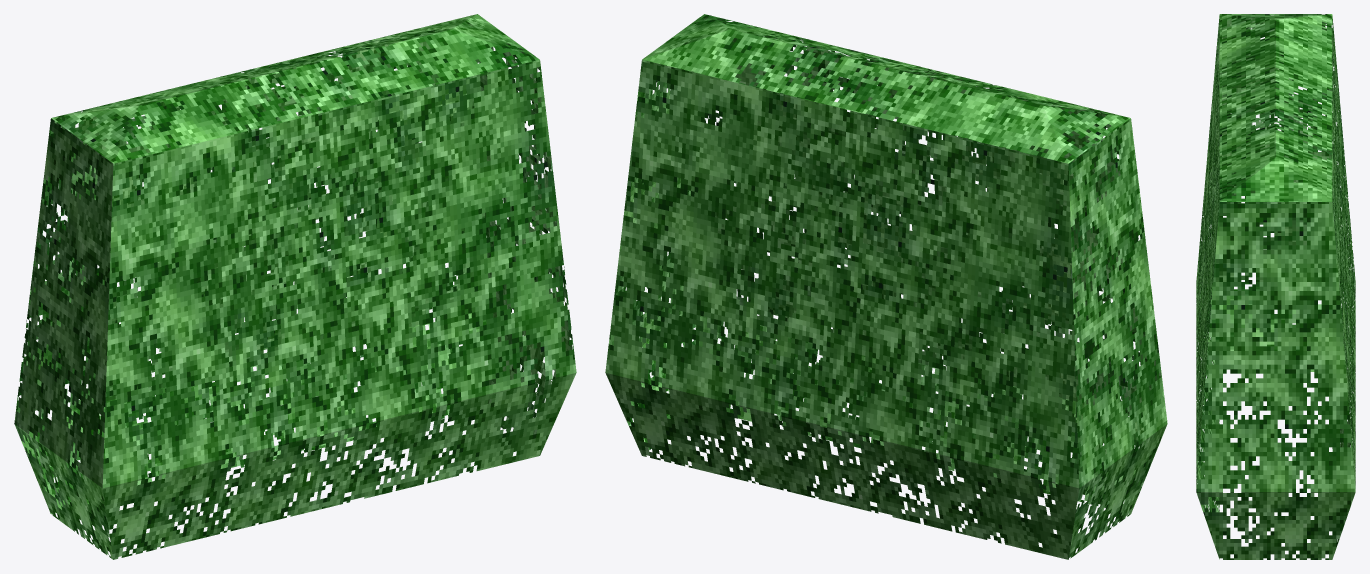
Rendered from bush_tall_single_spring.glb.
The picture shows the model from 3 angles, left to right: view 1: azimuth 30°, elevation 25°; view 2: azimuth 150°, elevation 25°; view 3: azimuth 270°, elevation 25°; orthographic projection. The views are drawn at different scales.
Visible parts, largest first — view 1: bush_tall_single_spring; view 2: bush_tall_single_spring; view 3: bush_tall_single_spring.
Part boxes in pixels (x1,y1,x2,y2): bush_tall_single_spring: (14,14,576,559); bush_tall_single_spring: (605,14,1167,559); bush_tall_single_spring: (1196,14,1355,559).
Bounding box in the file's own units: 2.23 × 1.88 × 0.7191.
Materials: 1 (1 with a texture image).
